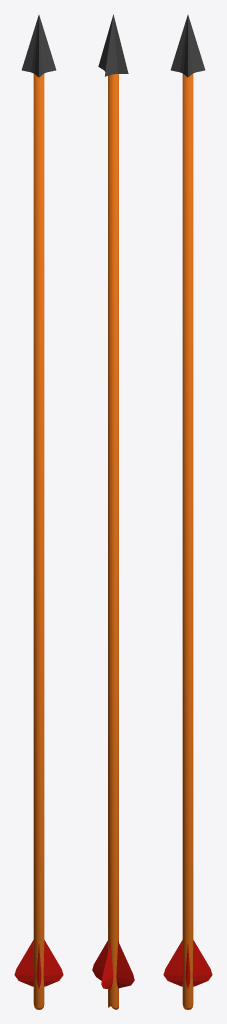
The model's file is BasicArrow.fbx.
3 renders of one model, left to right at view 1: azimuth 90°, elevation 25°; view 2: azimuth 150°, elevation 25°; view 3: azimuth 270°, elevation 25°, orthographic.
Parts seen in each view (by area): view 1: Arrow; view 2: Arrow; view 3: Arrow.
Part boxes in pixels (box(x1,y1,x2,y2)): Arrow: box(14, 15, 63, 1009); Arrow: box(92, 14, 134, 1009); Arrow: box(163, 15, 212, 1009).
Bounding box in the file's own units: 0.0328 × 0.7309 × 0.0328.
